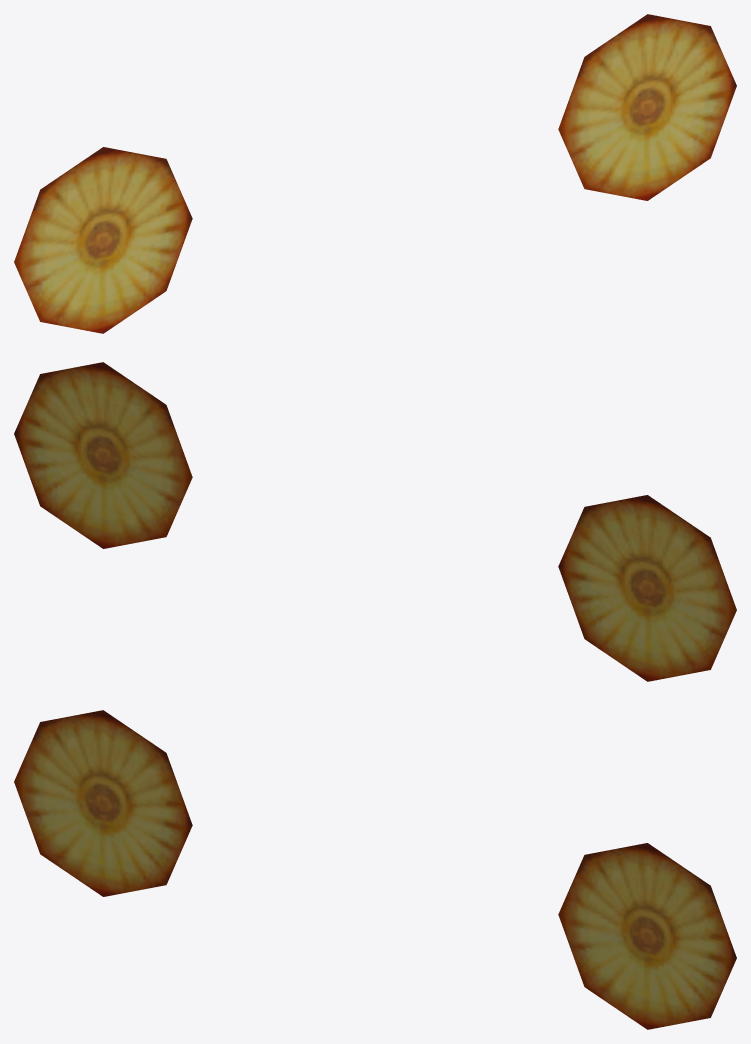
Rendered from kse_firespray_engine_s02_on_l2.fbx.
3 views of the same model, one above another, from view 1: azimuth 30°, elevation 25°; view 2: azimuth 150°, elevation 25°; view 3: azimuth 330°, elevation 25° (orthographic).
Parts seen in each view (by area): view 1: mesh_node; view 2: mesh_node; view 3: mesh_node.
Part boxes in pixels (x1=…): mesh_node: x1=14, y1=14, x2=736, y2=333; mesh_node: x1=14, y1=362, x2=736, y2=681; mesh_node: x1=14, y1=710, x2=736, y2=1029.
Bounding box in the file's own units: 5.59 × 1.38 × 0.
Materials: 1 (1 with a texture image).
